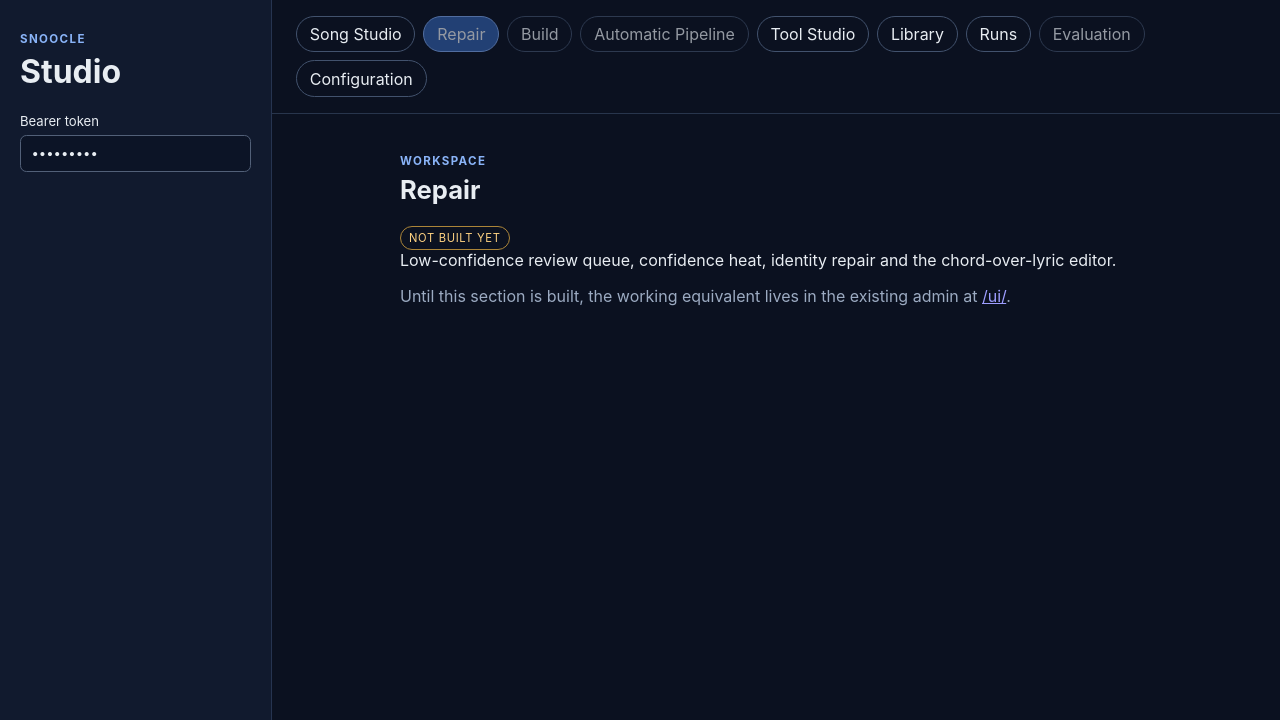
Test: StudioApp › navigates to Runs and renders the queue's worker line
The width and height of the screenshot is (1280, 720).
Click the button "Runs" at coordinates (998, 34), box x1=966 y1=16 x2=1031 y2=52
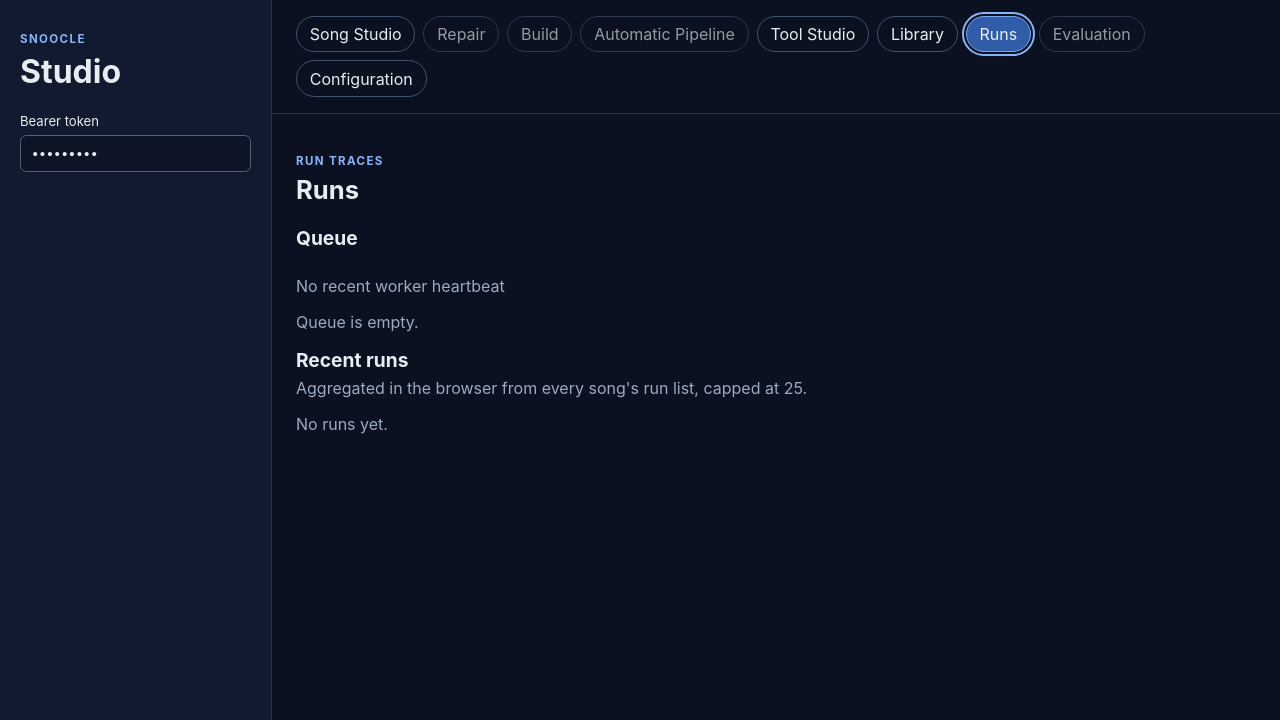
Expected: the heading "Runs" is shown, x1=296 y1=174 x2=359 y2=205
Expected: the text "No recent worker heartbeat" is shown, x1=296 y1=276 x2=505 y2=296
